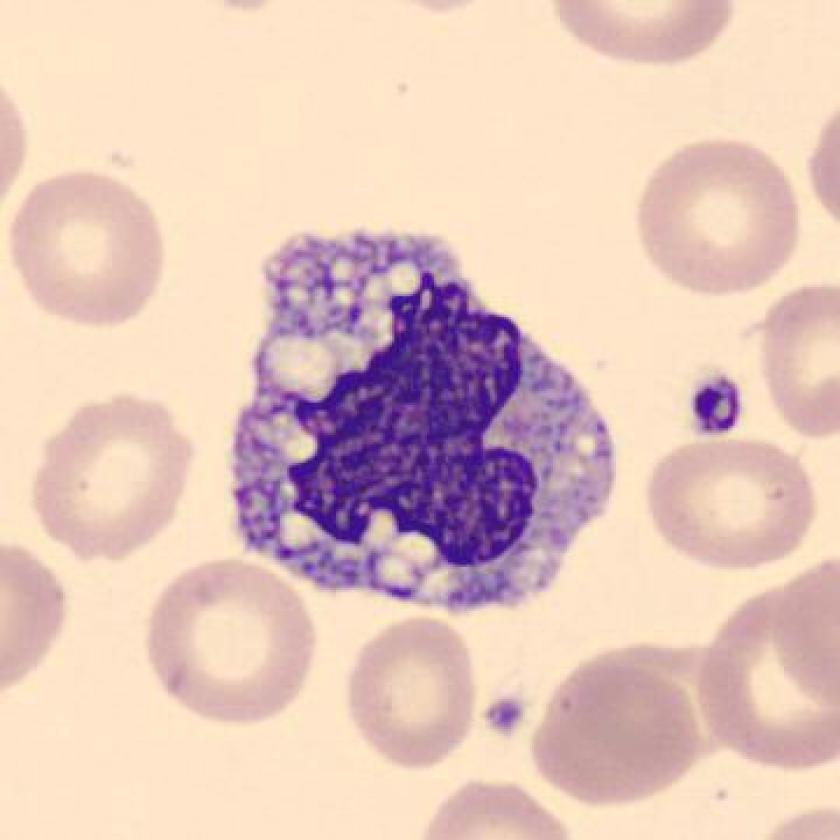monocyte: (211, 205, 636, 637)
